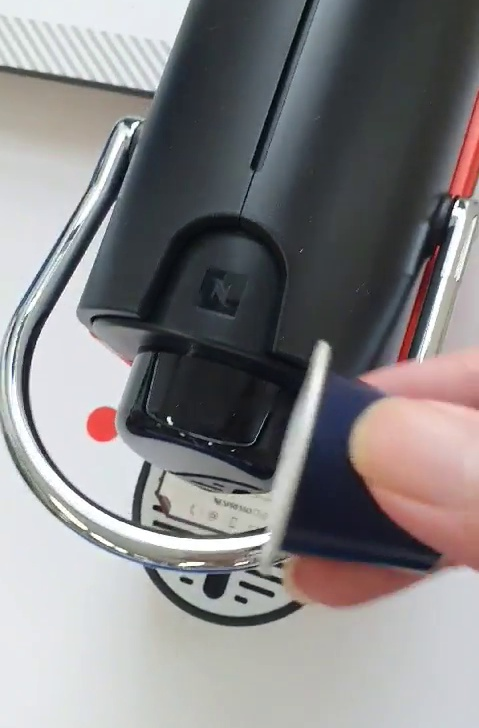capsule_1: (258, 337, 452, 581)
